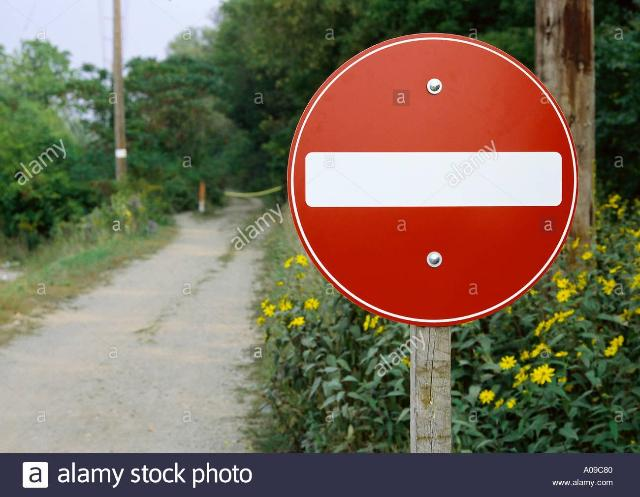B2: (286, 31, 578, 327)
